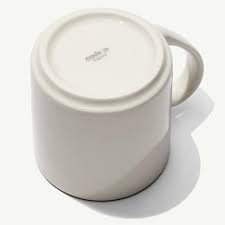mug: (24, 10, 216, 207)
